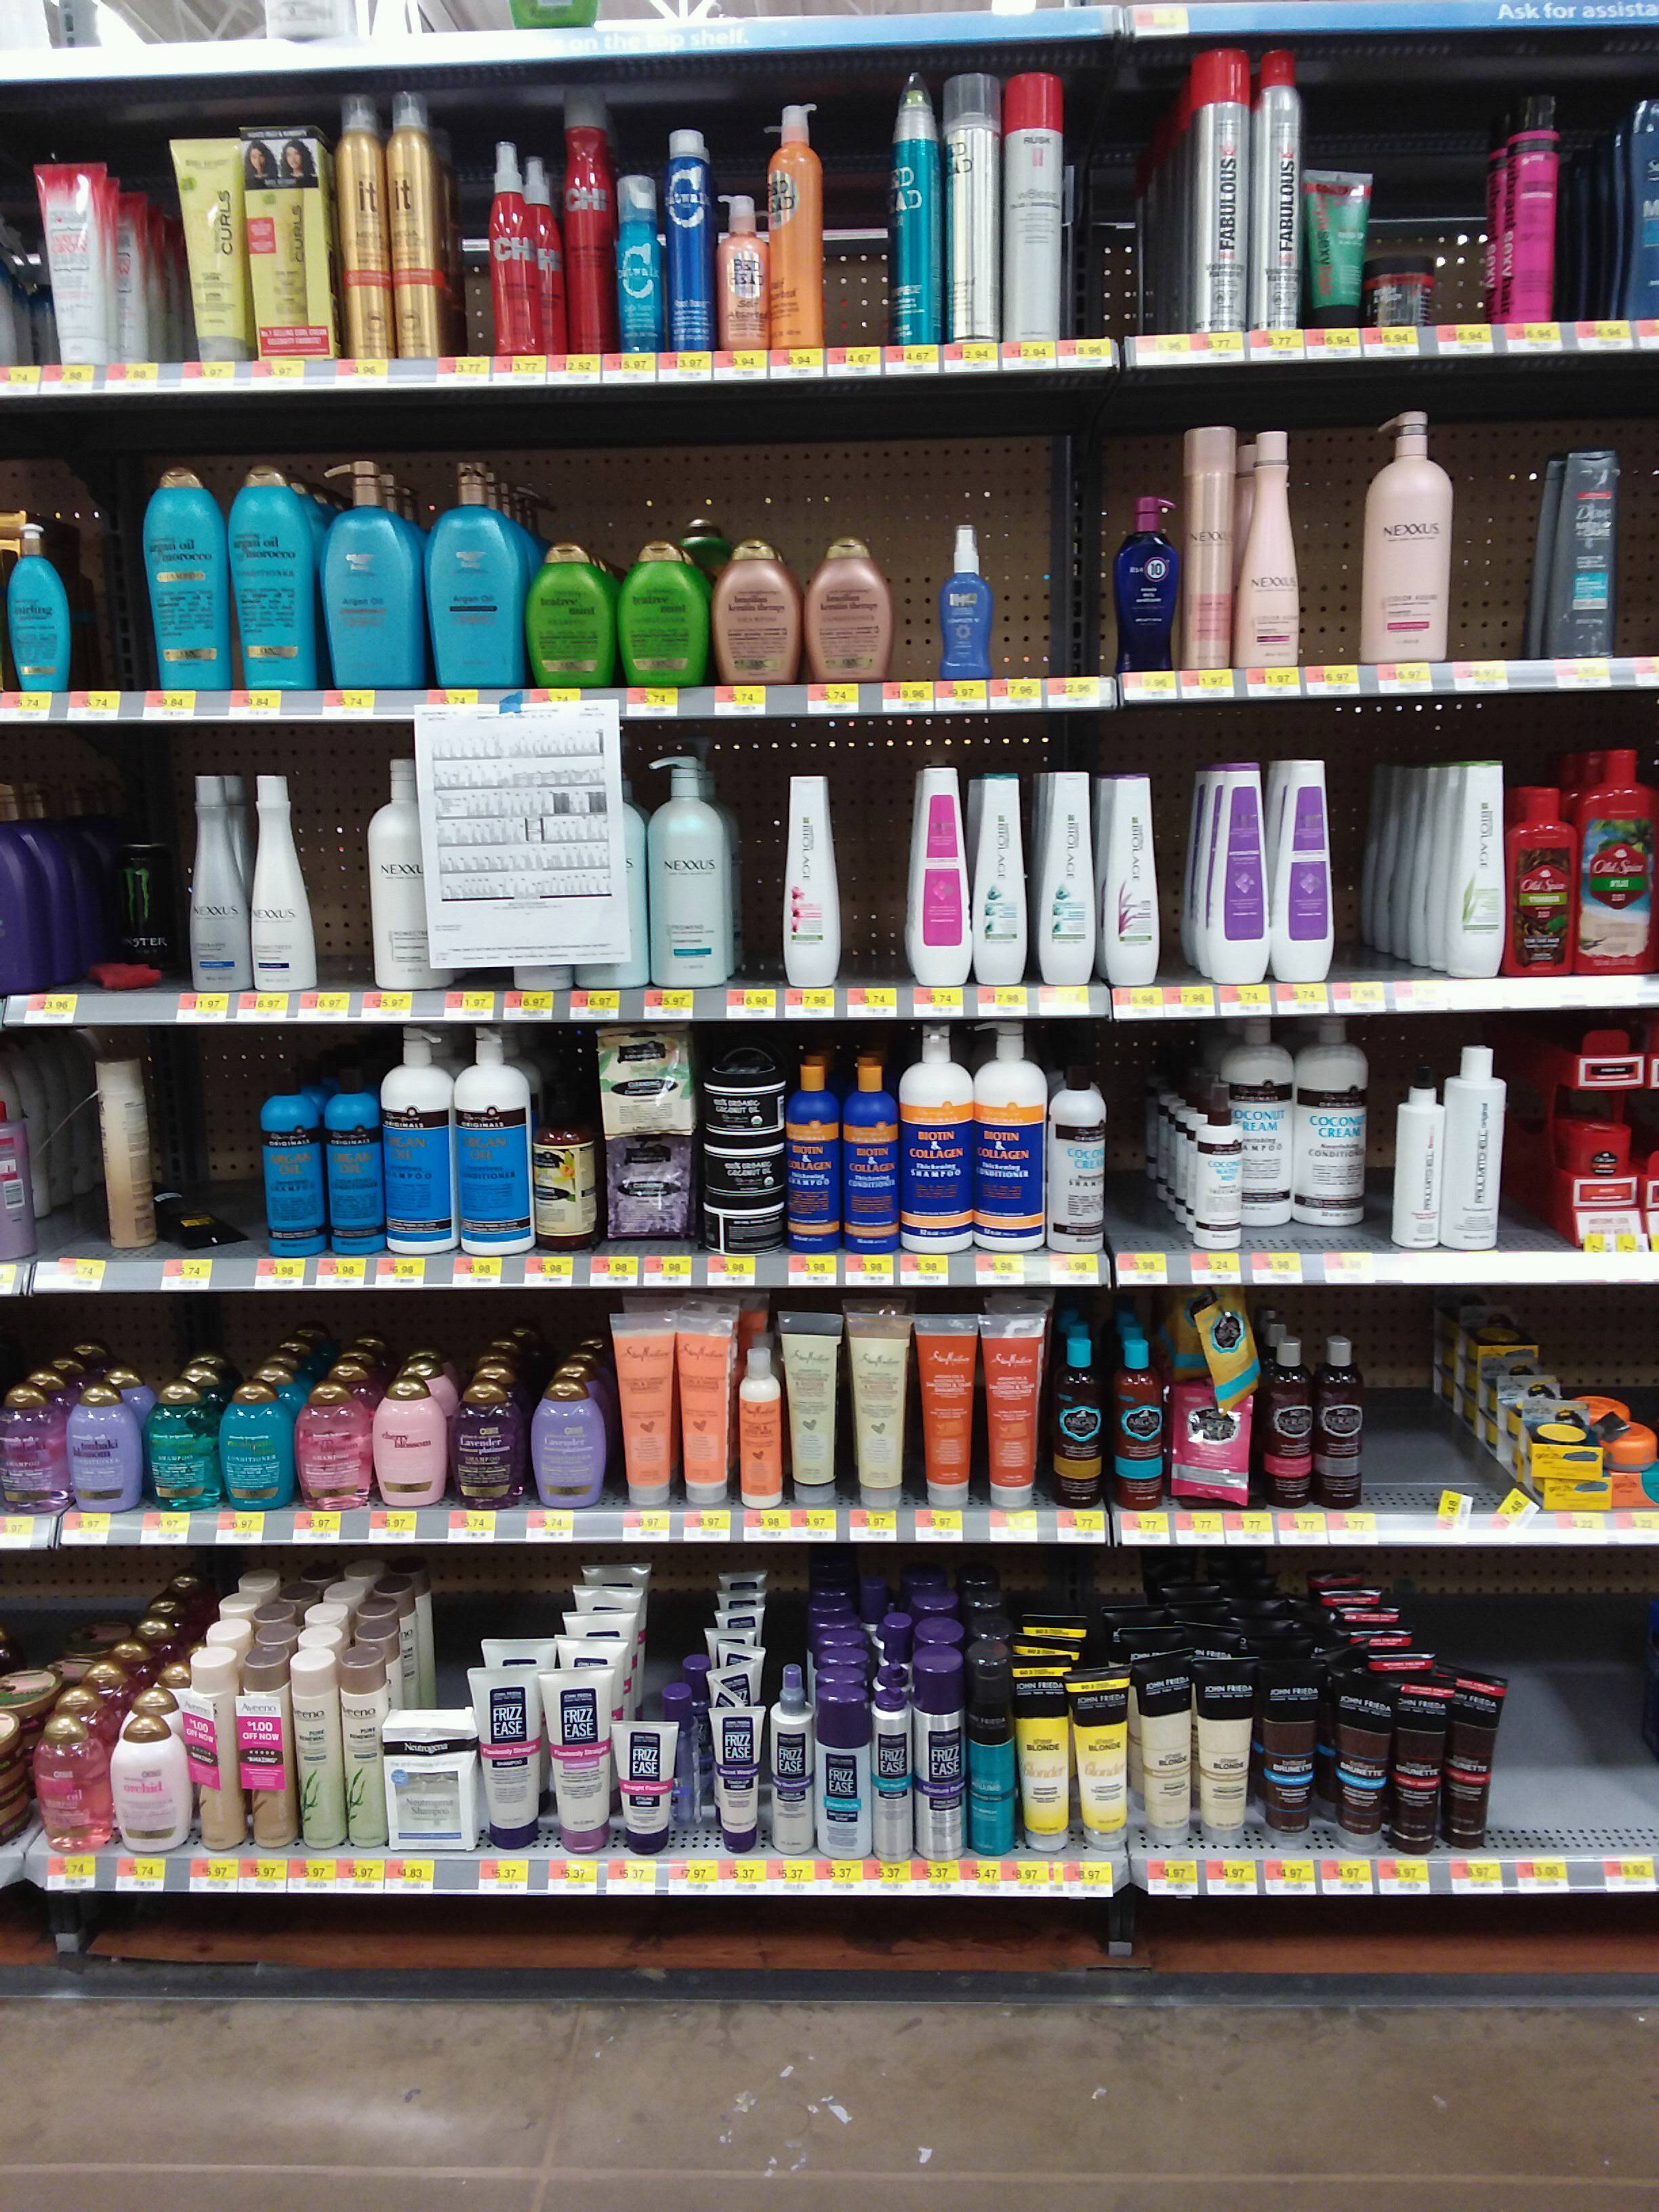Out-of-stock: (1105, 1031, 1192, 1251)
